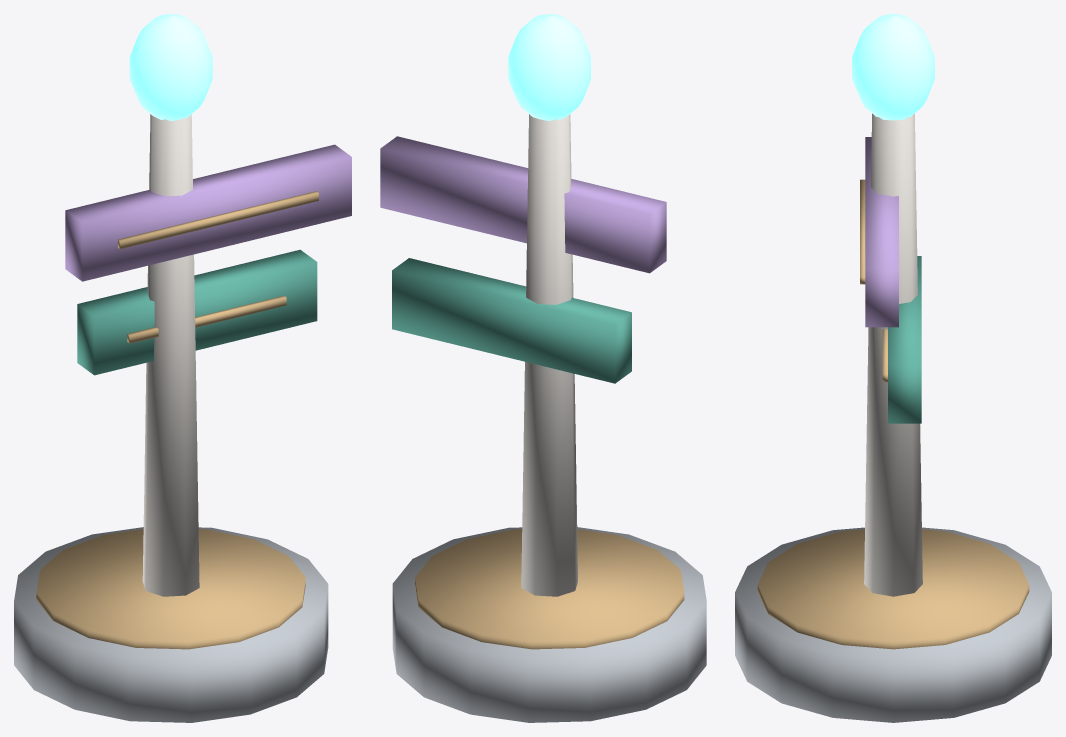
Rendered from prp_celestial_signpost.glb.
3 views of the same model, side by side, from view 1: azimuth 30°, elevation 25°; view 2: azimuth 150°, elevation 25°; view 3: azimuth 270°, elevation 25° (orthographic).
Visible parts, largest first — view 1: PRP_celestial_signpost_foot, PRP_celestial_signpost_gold_ring, PRP_celestial_signpost_post, PRP_celestial_signpost_pointer_0, PRP_celestial_signpost_pointer_1, PRP_celestial_signpost_finial, PRP_celestial_signpost_gold_seam_0, PRP_celestial_signpost_gold_seam_1; view 2: PRP_celestial_signpost_foot, PRP_celestial_signpost_gold_ring, PRP_celestial_signpost_post, PRP_celestial_signpost_pointer_0, PRP_celestial_signpost_pointer_1, PRP_celestial_signpost_finial; view 3: PRP_celestial_signpost_foot, PRP_celestial_signpost_gold_ring, PRP_celestial_signpost_post, PRP_celestial_signpost_finial, PRP_celestial_signpost_pointer_0, PRP_celestial_signpost_pointer_1, PRP_celestial_signpost_gold_seam_0.
Boxes of the visible parts, x1,y1,x2,y2 form: PRP_celestial_signpost_foot: [14, 527, 328, 722]; PRP_celestial_signpost_gold_ring: [36, 529, 305, 649]; PRP_celestial_signpost_post: [142, 114, 199, 596]; PRP_celestial_signpost_pointer_0: [65, 144, 351, 281]; PRP_celestial_signpost_pointer_1: [77, 249, 317, 375]; PRP_celestial_signpost_finial: [129, 14, 212, 120]; PRP_celestial_signpost_gold_seam_0: [118, 191, 318, 249]; PRP_celestial_signpost_gold_seam_1: [127, 295, 286, 343]; PRP_celestial_signpost_foot: [392, 527, 706, 722]; PRP_celestial_signpost_gold_ring: [415, 529, 684, 649]; PRP_celestial_signpost_post: [521, 114, 577, 596]; PRP_celestial_signpost_pointer_0: [380, 136, 666, 273]; PRP_celestial_signpost_pointer_1: [392, 258, 631, 383]; PRP_celestial_signpost_finial: [508, 14, 590, 120]; PRP_celestial_signpost_foot: [735, 527, 1051, 722]; PRP_celestial_signpost_gold_ring: [757, 529, 1029, 649]; PRP_celestial_signpost_post: [864, 113, 922, 596]; PRP_celestial_signpost_finial: [852, 14, 934, 120]; PRP_celestial_signpost_pointer_0: [865, 137, 898, 327]; PRP_celestial_signpost_pointer_1: [888, 256, 921, 423]; PRP_celestial_signpost_gold_seam_0: [860, 179, 865, 284].
Bounding box in the file's own units: 1.24 × 2.5 × 1.12.
